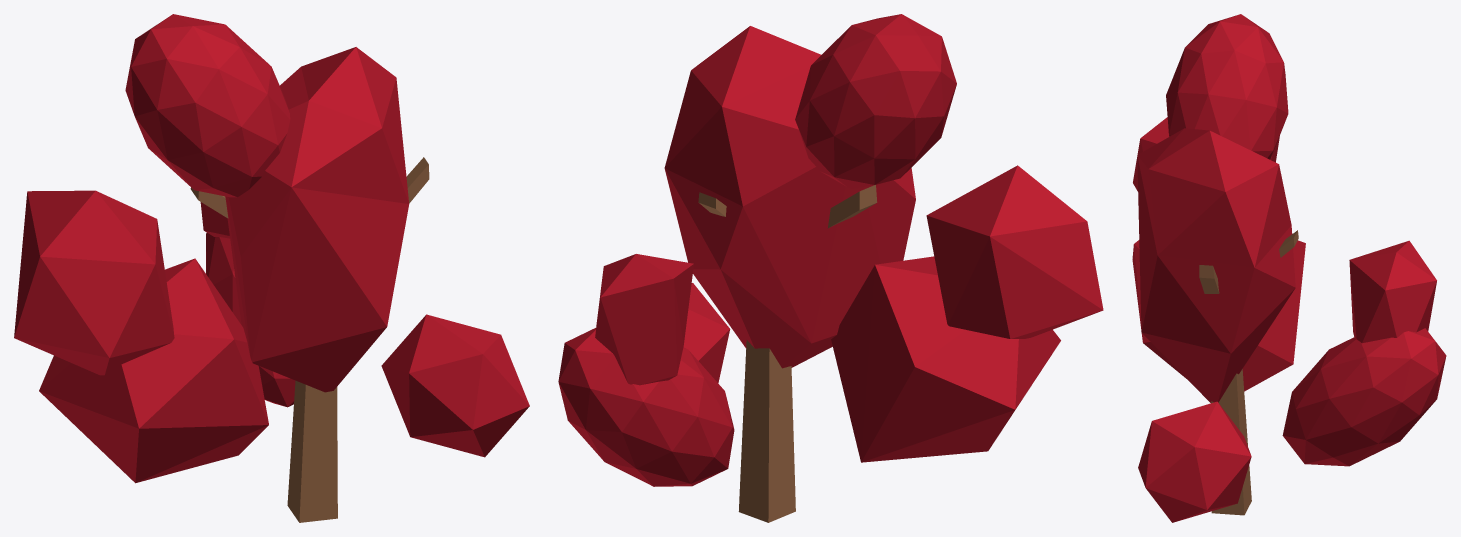
Rendered from tree-dead-complete-1-001.glb.
3 renders of one model, left to right at view 1: azimuth 30°, elevation 25°; view 2: azimuth 150°, elevation 25°; view 3: azimuth 270°, elevation 25°, orthographic. The views are drawn at different scales.
Visible parts, largest first — view 1: TREE 1.007_495, TREE 1.006_496; view 2: TREE 1.007_495, TREE 1.006_496; view 3: TREE 1.007_495, TREE 1.006_496.
Boxes of the visible parts, bbox=[...] form: TREE 1.007_495: bbox=[14, 14, 529, 483]; TREE 1.006_496: bbox=[190, 157, 429, 522]; TREE 1.007_495: bbox=[558, 14, 1103, 486]; TREE 1.006_496: bbox=[698, 185, 877, 522]; TREE 1.007_495: bbox=[1132, 14, 1446, 522]; TREE 1.006_496: bbox=[1199, 230, 1298, 515].
Bounding box in the file's own units: 1.17 × 1.19 × 0.7756.
